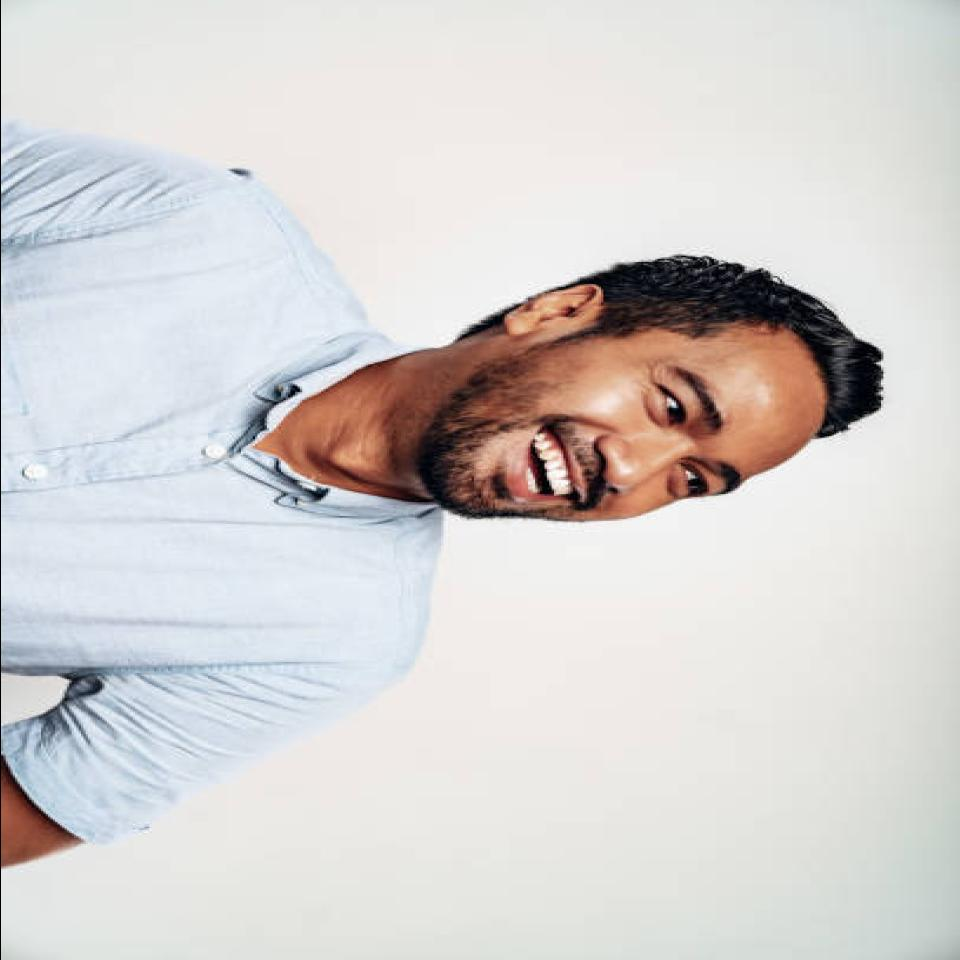Happiness: (442, 296, 792, 526)
